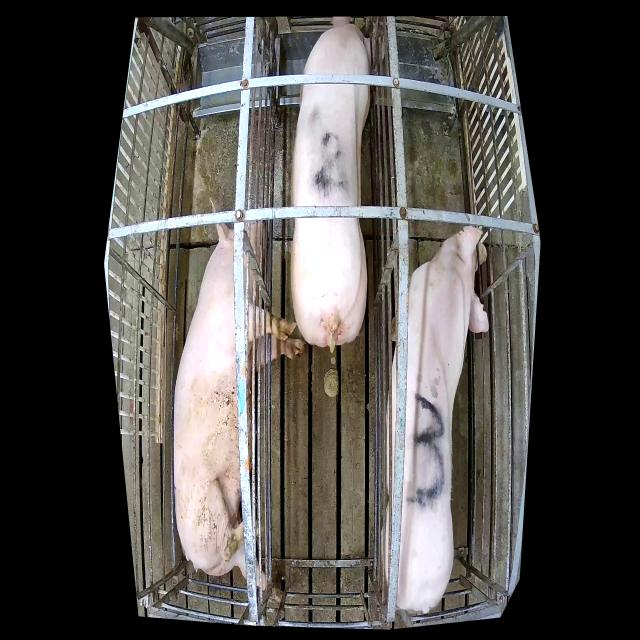pig: (174, 195, 306, 608), (381, 226, 489, 613), (292, 23, 370, 353)
